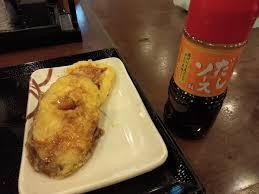satumaimo: (31, 77, 97, 179)
